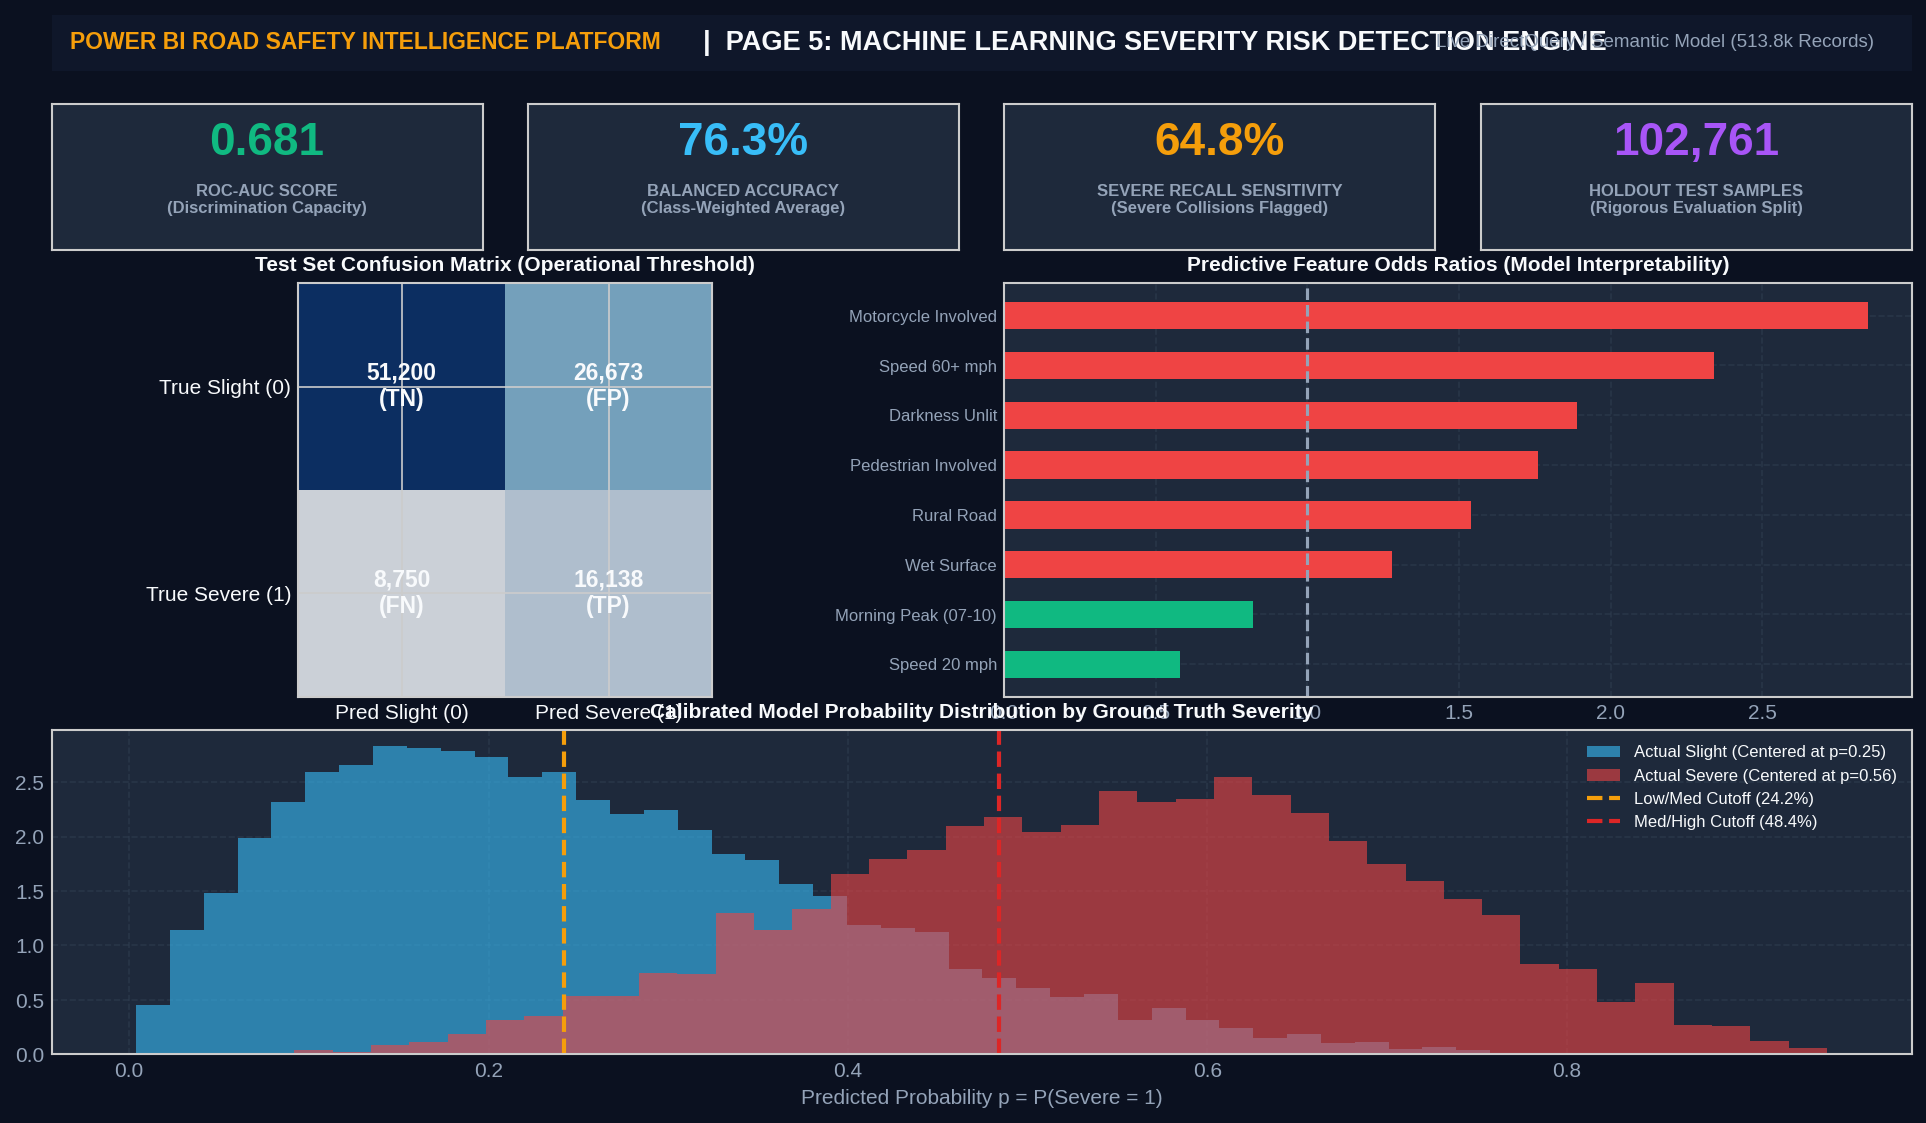

The page's visual inventory and layout, read from the dashboard file:
{"tool":"powerbi","page":{"name":"5. Machine Learning & Risk Detection","canvas":[1280,720],"ordinal":4},"visuals":[{"type":"card","title":"Accuracy (Balanced: 76.3%)","box":[20,20,230,100],"z":1000},{"type":"card","title":"Severe Recall (Sensitivity)","box":[270,20,230,100],"z":1000},{"type":"card","title":"Severe Precision","box":[520,20,230,100],"z":1000},{"type":"card","title":"Macro F1-Score","box":[770,20,230,100],"z":1000},{"type":"card","title":"Evaluated Test Cases","box":[1020,20,240,100],"z":1000},{"type":"tableEx","title":"Test Set Confusion Matrix (Logistic Regression)","box":[20,140,450,270],"z":1000},{"type":"clusteredBarChart","title":"Feature Importance (Odds Ratios: e^beta_i)","box":[490,140,770,270],"z":1000},{"type":"tableEx","title":"Severity Risk Prediction Explorer (Test Set Instances)","box":[20,430,1240,270],"z":1000}]}

Visuals, with their boxes on the page's 1280x720 design canvas (x1, y1, x2, y2). These are canvas units, not pixel positions in the 1926x1123 screenshot, which may show the page scaled, cropped or inside an application window:
"Accuracy (Balanced: 76.3%)" card: Rect(20, 20, 250, 120)
"Severe Recall (Sensitivity)" card: Rect(270, 20, 500, 120)
"Severe Precision" card: Rect(520, 20, 750, 120)
"Macro F1-Score" card: Rect(770, 20, 1000, 120)
"Evaluated Test Cases" card: Rect(1020, 20, 1260, 120)
"Test Set Confusion Matrix (Logistic Regression)" tableEx: Rect(20, 140, 470, 410)
"Feature Importance (Odds Ratios: e^beta_i)" clusteredBarChart: Rect(490, 140, 1260, 410)
"Severity Risk Prediction Explorer (Test Set Instances)" tableEx: Rect(20, 430, 1260, 700)
